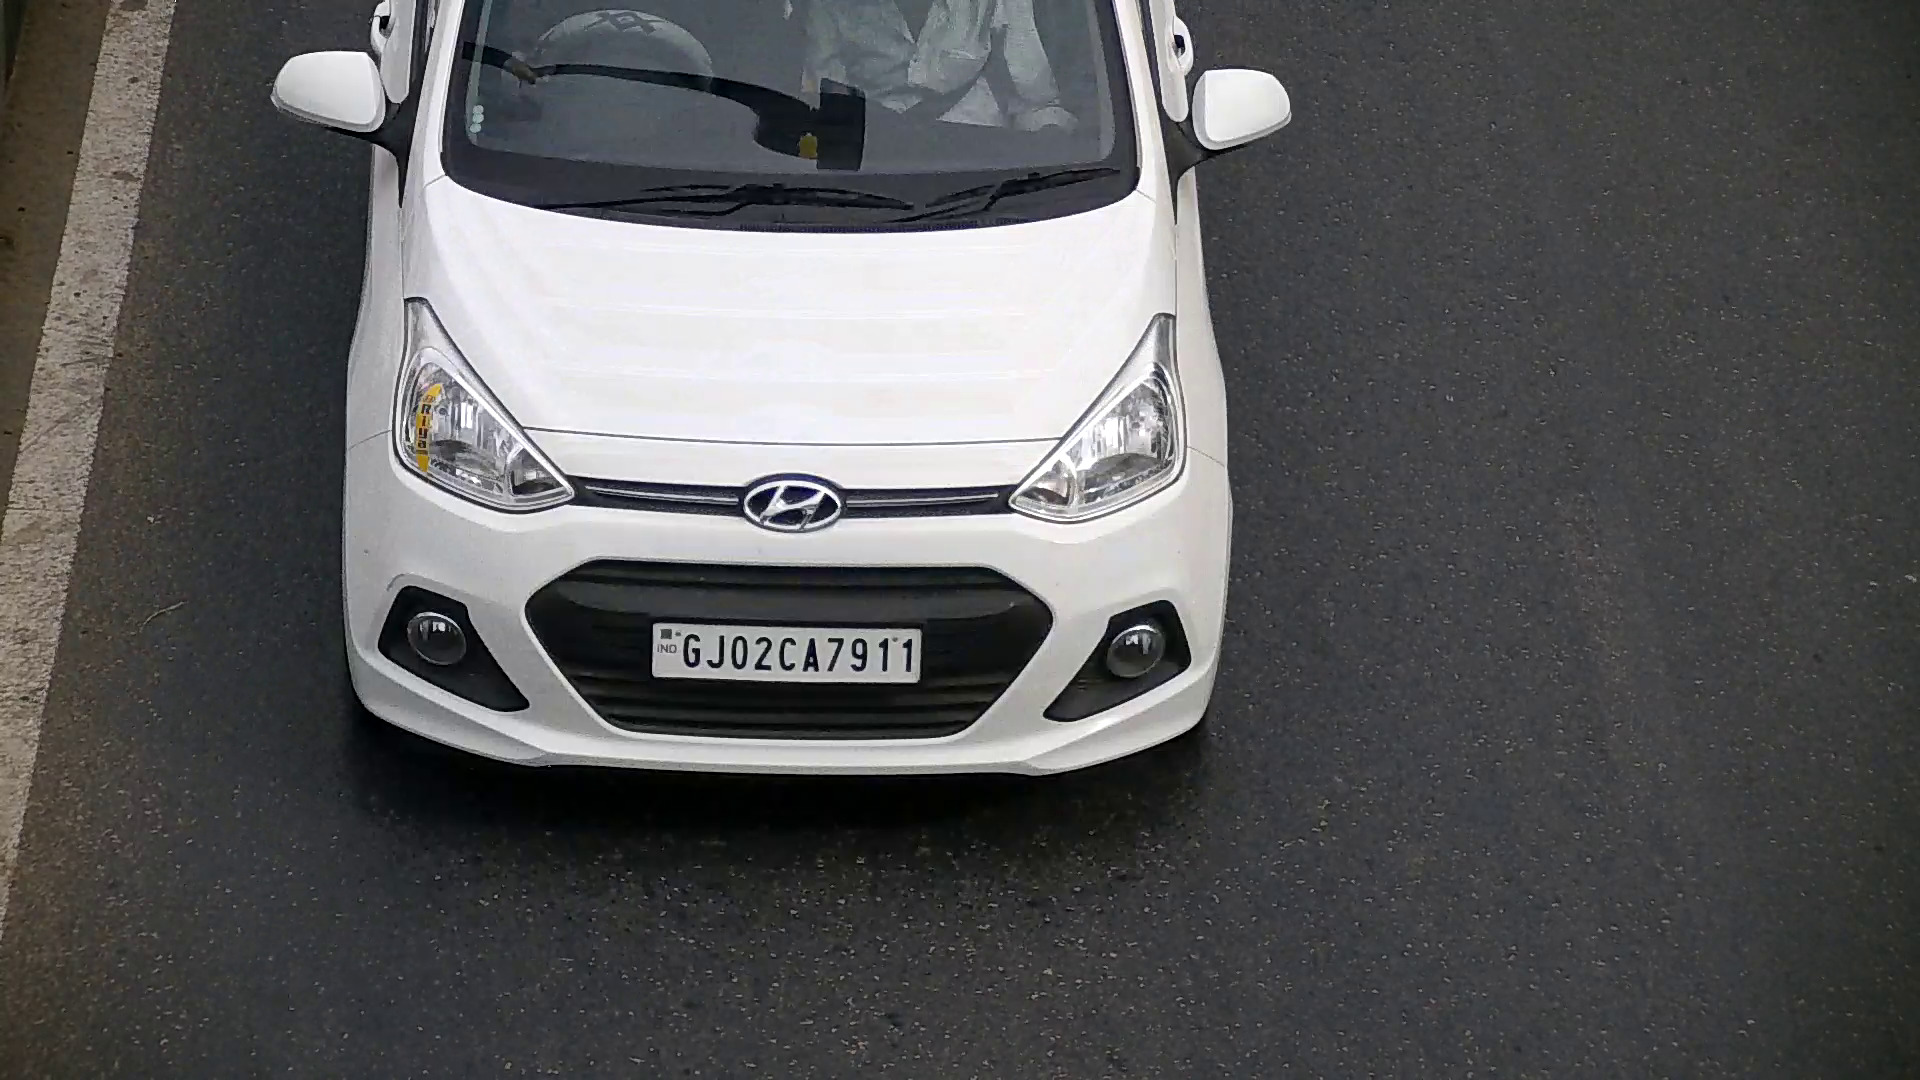numberplate: (646, 615, 930, 688)
